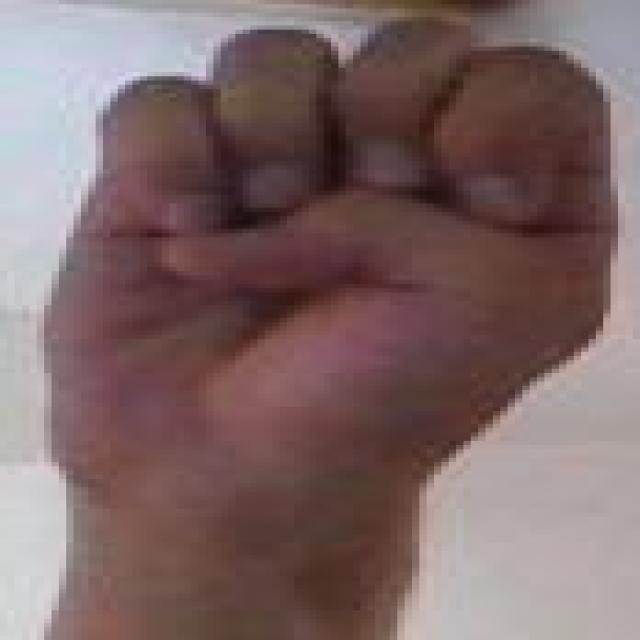E: (27, 19, 628, 503)
